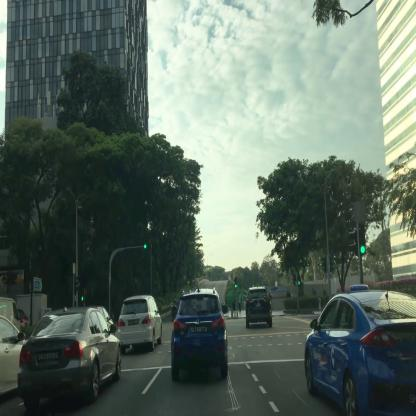green_traffic_light: (358, 225, 366, 255), (143, 242, 152, 249), (234, 276, 237, 286)
